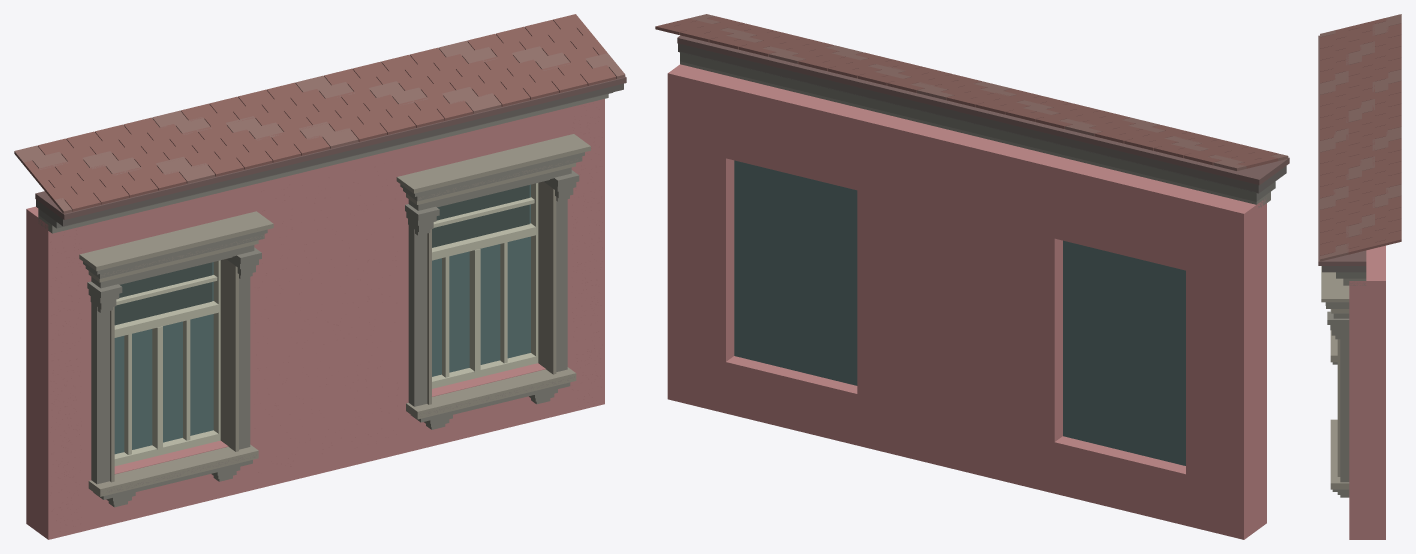
File: hongkou-shanyin-181-villa-hooded-windows-web.glb
The picture shows the model from 3 angles, left to right: view 1: azimuth 30°, elevation 25°; view 2: azimuth 150°, elevation 25°; view 3: azimuth 270°, elevation 25°; orthographic projection. The views are drawn at different scales.
Parts seen in each view (by area): view 1: 山阴路181号花园住宅临街二层窗罩、窗台托与瓦檐; view 2: 山阴路181号花园住宅临街二层窗罩、窗台托与瓦檐; view 3: 山阴路181号花园住宅临街二层窗罩、窗台托与瓦檐.
Part boxes in pixels (x1=…): 山阴路181号花园住宅临街二层窗罩、窗台托与瓦檐: x1=14, y1=14, x2=626, y2=539; 山阴路181号花园住宅临街二层窗罩、窗台托与瓦檐: x1=655, y1=14, x2=1289, y2=539; 山阴路181号花园住宅临街二层窗罩、窗台托与瓦檐: x1=1318, y1=14, x2=1401, y2=539.
Bounding box in the file's own units: 3.81 × 2.37 × 0.592.
